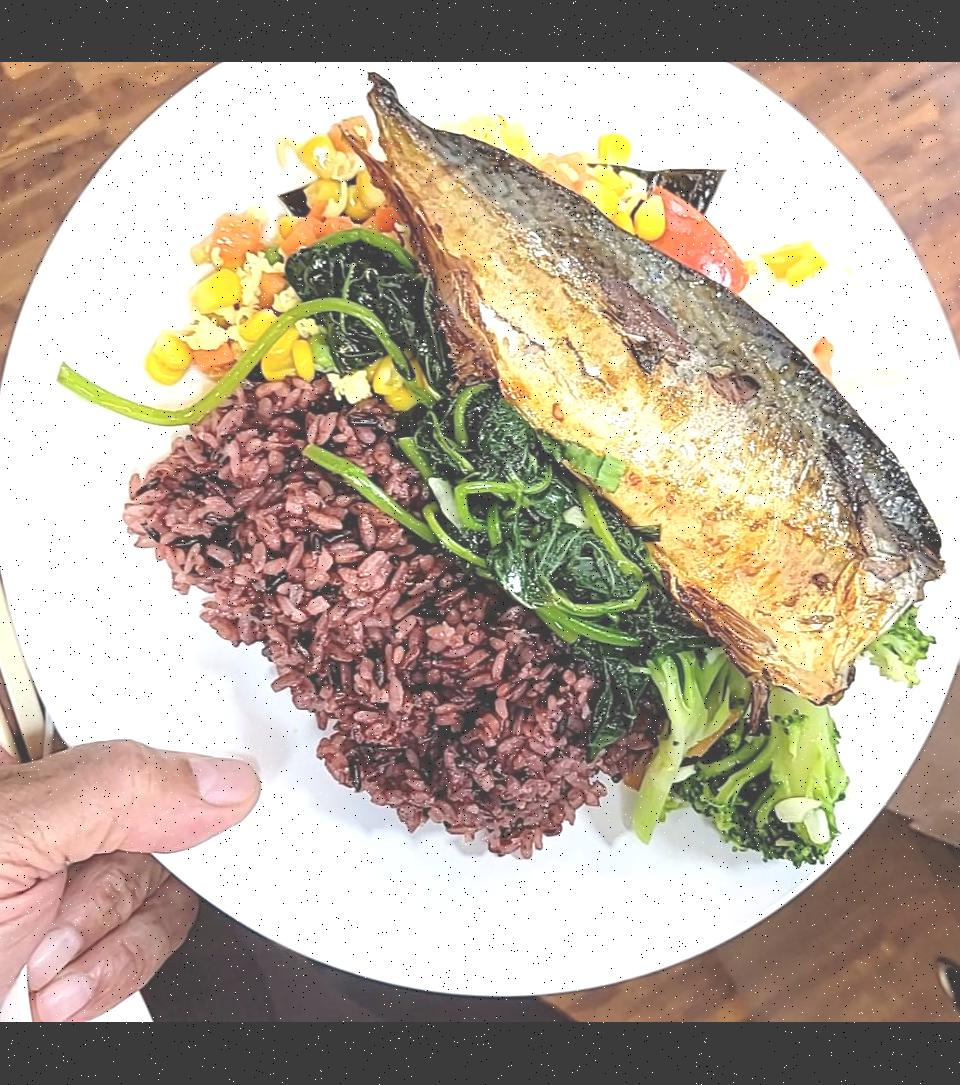grilled mackerel: (331, 88, 960, 688)
plate: (0, 70, 960, 1013)
purple rice: (112, 352, 630, 858)
side dish: (330, 268, 686, 686), (184, 123, 722, 380), (646, 646, 860, 850)
